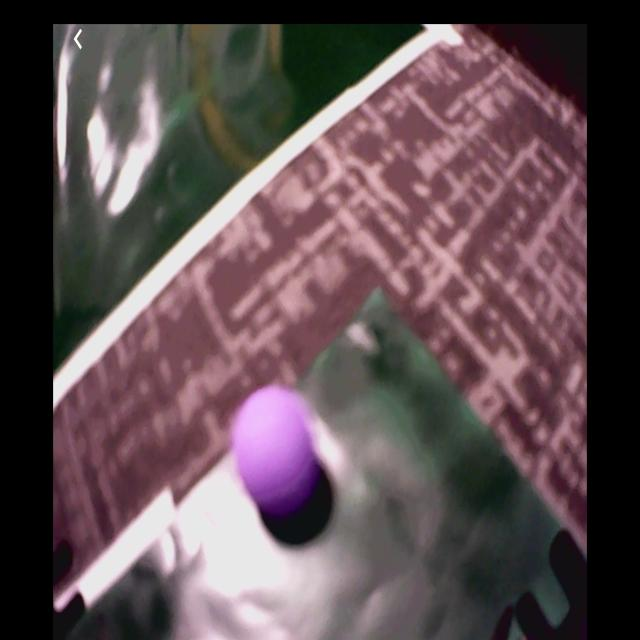ball: (238, 390, 314, 515)
